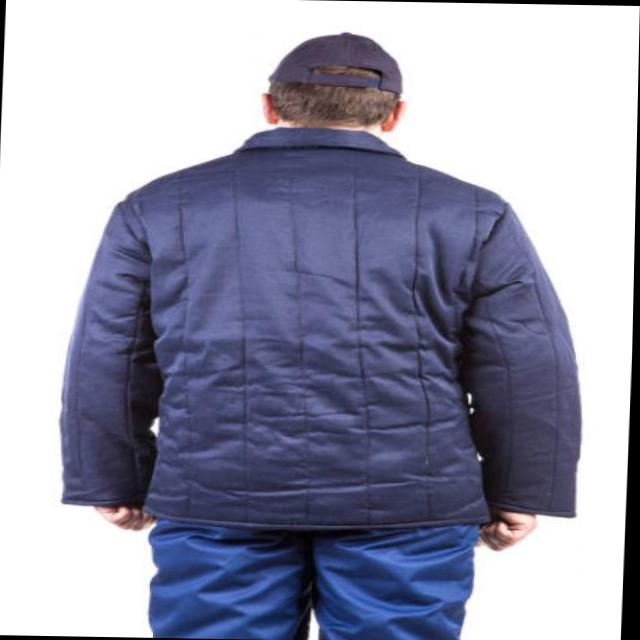no helmet: (255, 19, 432, 140)
